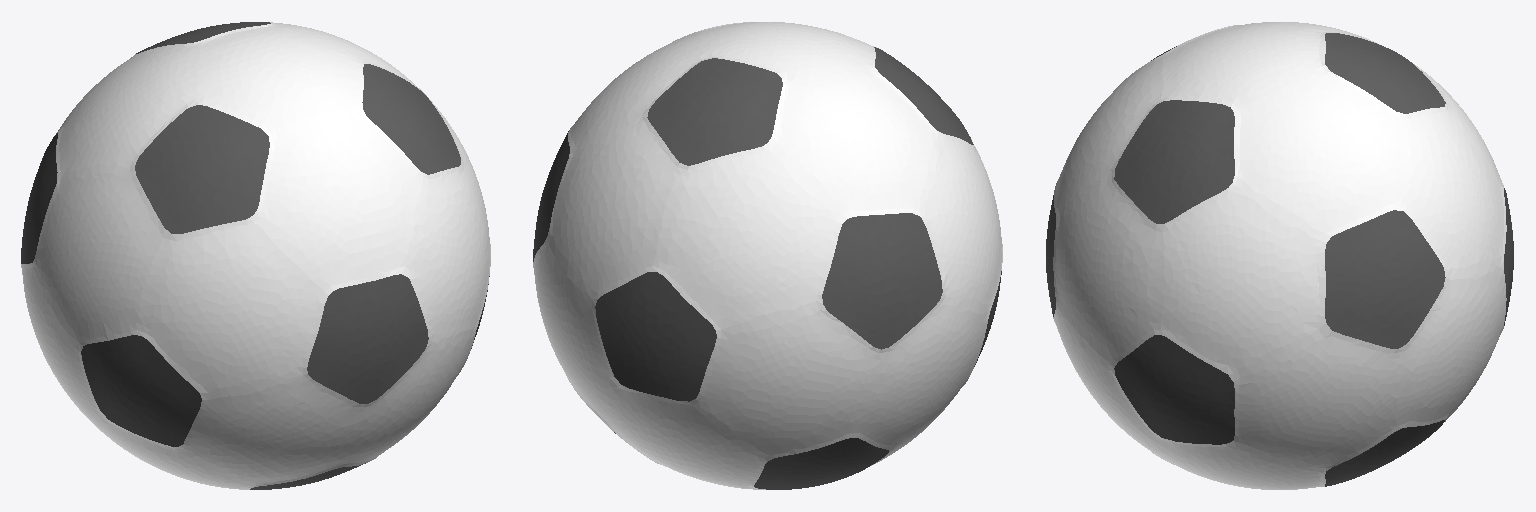
Rendered from soccerball.obj.
The picture shows the model from 3 angles: view 1: azimuth 30°, elevation 25°; view 2: azimuth 150°, elevation 25°; view 3: azimuth 270°, elevation 25°; orthographic projection.
Bounding box in the file's own units: 224 × 224 × 224.